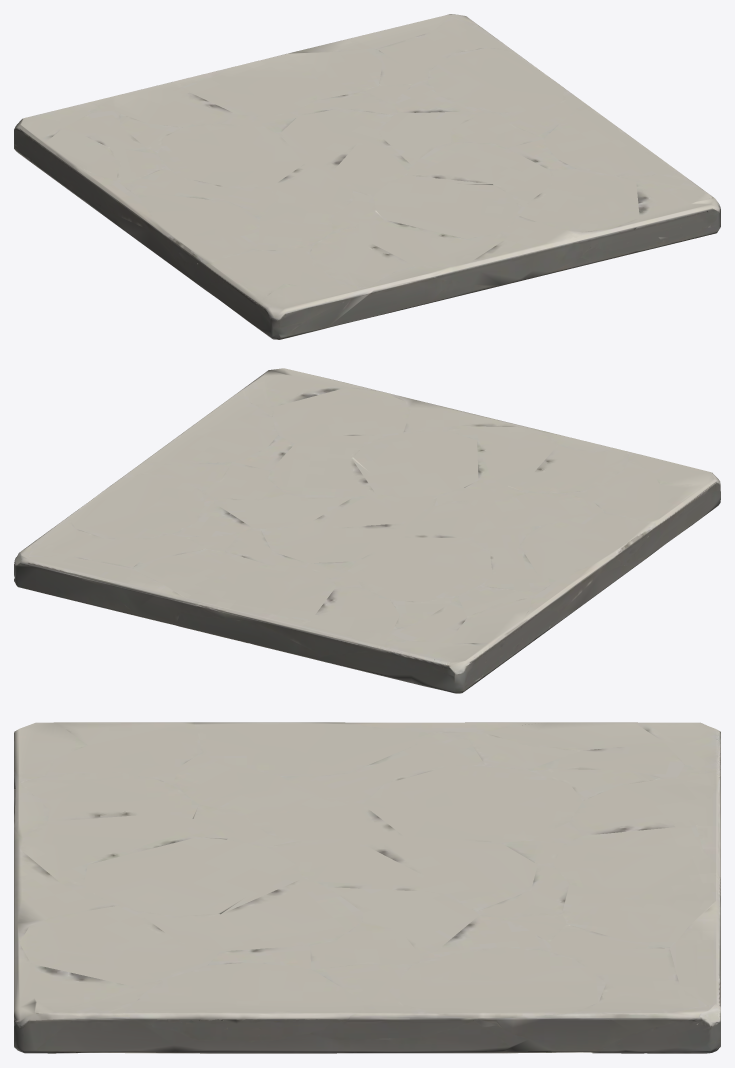
The model's file is model-23-floor-tile.glb.
3 renders of one model, top to bottom at view 1: azimuth 30°, elevation 25°; view 2: azimuth 150°, elevation 25°; view 3: azimuth 270°, elevation 25°, orthographic. The views are drawn at different scales.
Parts seen in each view (by area): view 1: node_0; view 2: node_0; view 3: node_0.
Boxes of the visible parts, x1,y1,x2,y2 form: node_0: [14, 14, 720, 339]; node_0: [14, 368, 720, 693]; node_0: [14, 722, 720, 1053].
Bounding box in the file's own units: 0.8528 × 0.0542 × 0.8663.
Materials: 1 (1 with a texture image).
